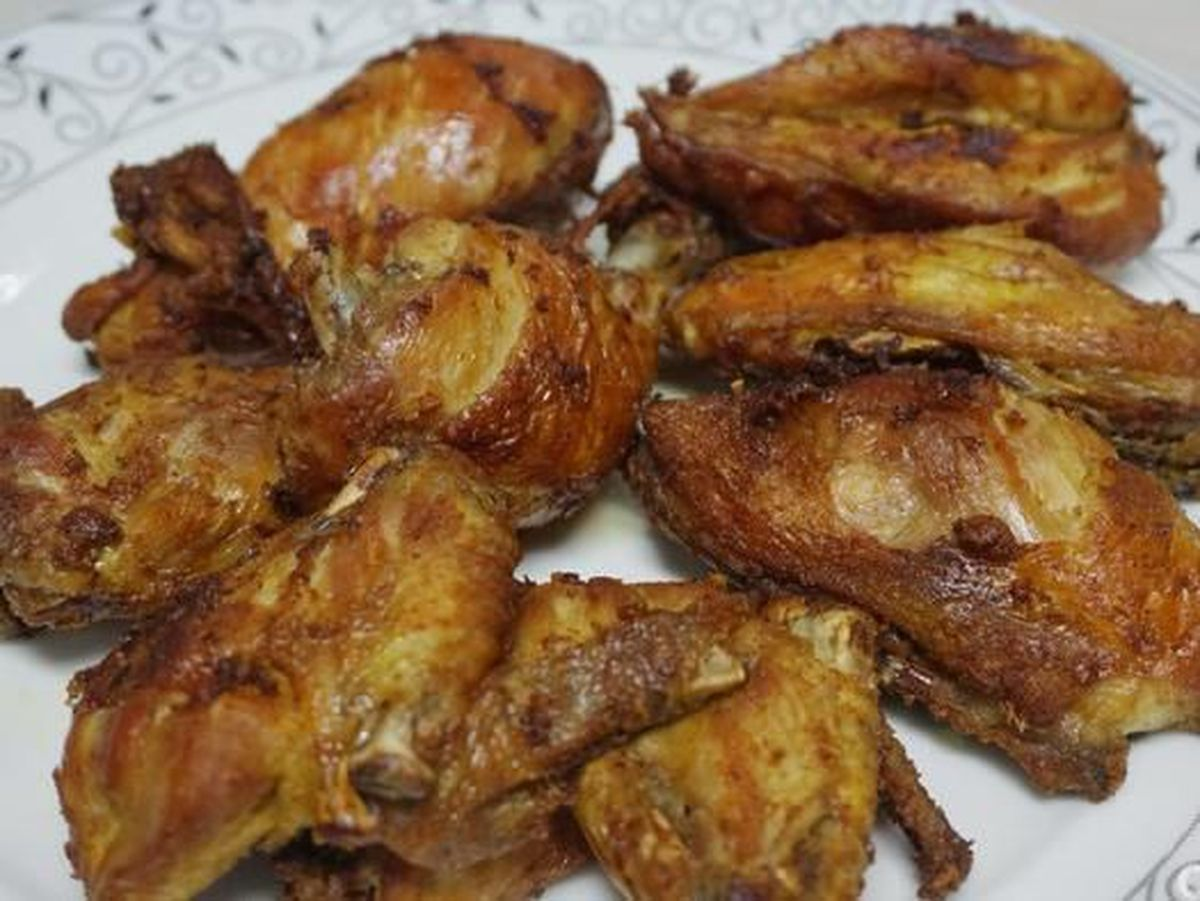Ayam: (37, 185, 665, 607), (625, 360, 1200, 791), (46, 554, 534, 867), (146, 15, 701, 289), (604, 185, 1200, 435), (535, 581, 950, 901), (636, 31, 1160, 259)
